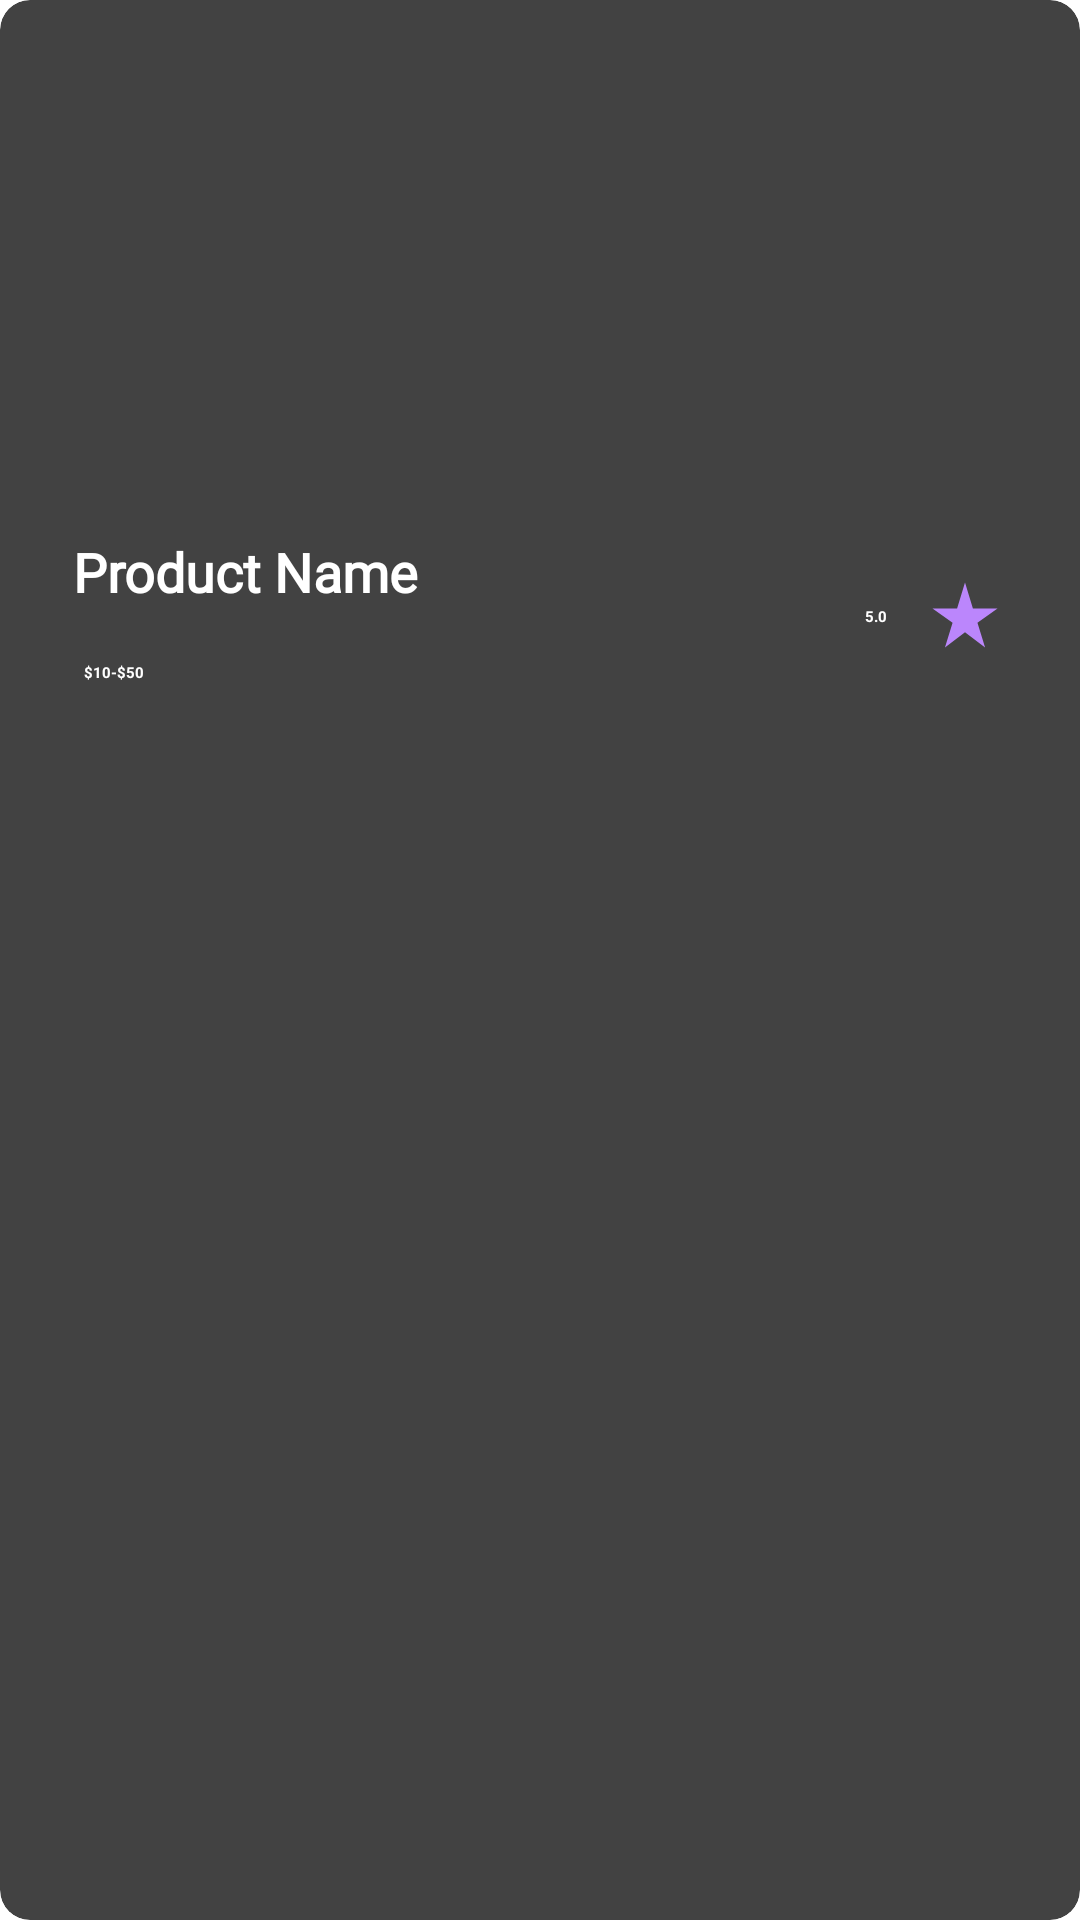

Named icons in this screenshot (1080px x 1920px) and their bounding boxes, BBox(x1, y1, x2, y2):
star rate: BBox(933, 583, 997, 647)
